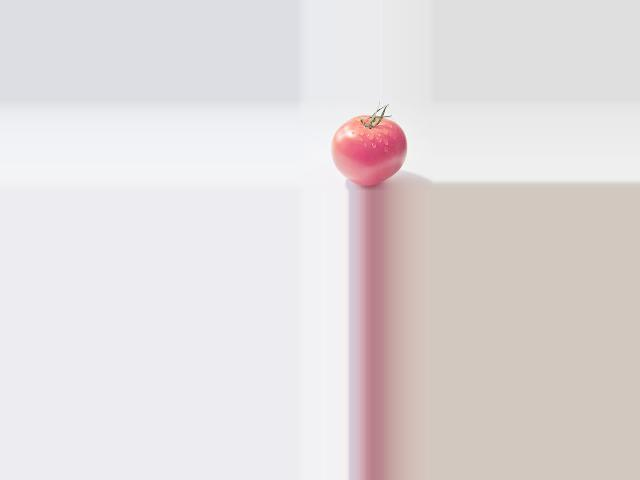tomato: (330, 116, 406, 186)
